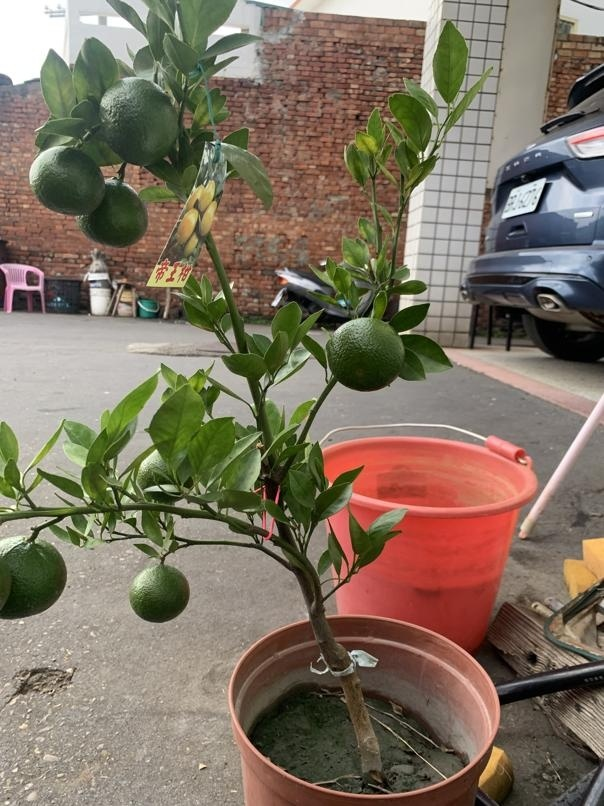Tangerine: (98, 80, 182, 164), (327, 314, 405, 392), (30, 141, 105, 215), (0, 537, 68, 617), (81, 177, 148, 248), (125, 557, 195, 623)
